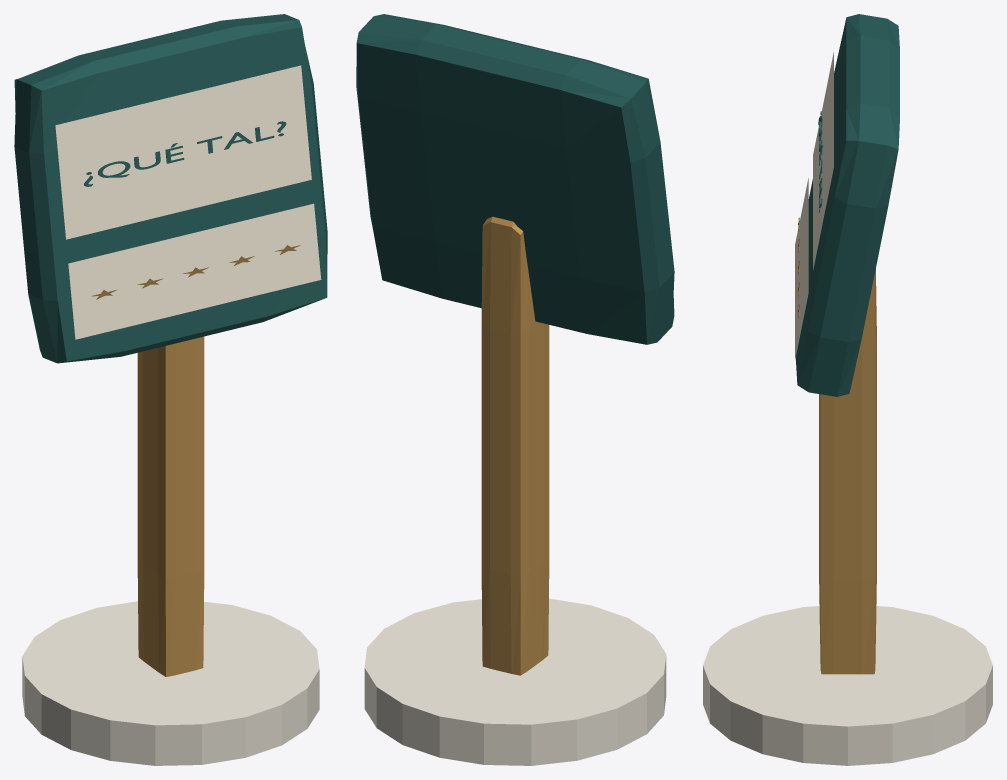
The model's file is best.glb.
3 renders of one model, left to right at view 1: azimuth 30°, elevation 25°; view 2: azimuth 150°, elevation 25°; view 3: azimuth 270°, elevation 25°, orthographic. The views are drawn at different scales.
Parts seen in each view (by area): view 1: Native component 2, Native component 0, Native component 3, Native component 1, Native component 4, Sign ¿QUÉ TAL?; view 2: Native component 2, Native component 0, Native component 1; view 3: Native component 0, Native component 2, Native component 1, Native component 3, Native component 4.
Boxes of the visible parts, left/top/right/bottom form: Native component 2: left=14, top=14, right=327, bottom=363; Native component 0: left=22, top=601, right=319, bottom=765; Native component 3: left=55, top=65, right=311, bottom=239; Native component 1: left=137, top=336, right=204, bottom=676; Native component 4: left=68, top=203, right=321, bottom=339; Sign ¿QUÉ TAL?: left=84, top=121, right=286, bottom=186; Native component 2: left=356, top=14, right=674, bottom=344; Native component 0: left=364, top=598, right=666, bottom=765; Native component 1: left=481, top=216, right=549, bottom=675; Native component 0: left=703, top=606, right=992, bottom=765; Native component 2: left=796, top=14, right=899, bottom=396; Native component 1: left=819, top=269, right=876, bottom=674; Native component 3: left=813, top=52, right=833, bottom=270; Native component 4: left=795, top=178, right=808, bottom=360.
Size of the model in its own units: 0.66 by 1.45 by 0.6.
